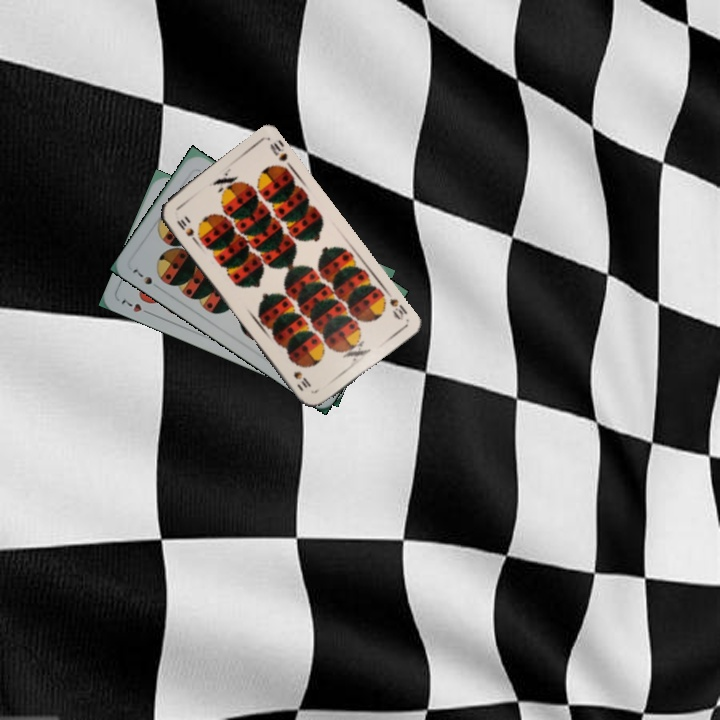H7: (117, 295, 155, 318)
S10: (381, 286, 410, 323), (172, 215, 200, 245)
S7: (128, 263, 163, 292)
